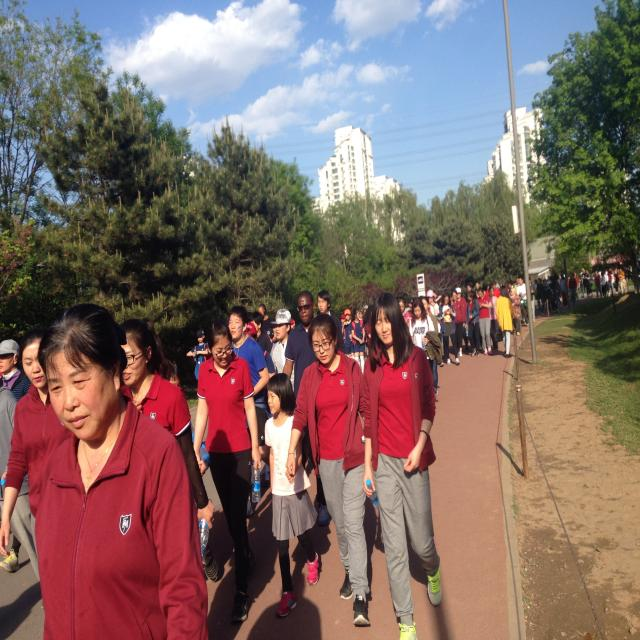body: (223, 245, 640, 400), (33, 302, 211, 640), (205, 439, 422, 639), (283, 308, 375, 630), (360, 289, 444, 640), (0, 331, 84, 639), (191, 318, 263, 624), (116, 315, 216, 531), (0, 325, 77, 559), (263, 370, 322, 620), (226, 304, 272, 468), (158, 361, 211, 478), (282, 289, 318, 400), (408, 296, 436, 374), (270, 307, 294, 393), (436, 291, 461, 366), (494, 284, 515, 358), (475, 286, 494, 356), (186, 328, 209, 381)
